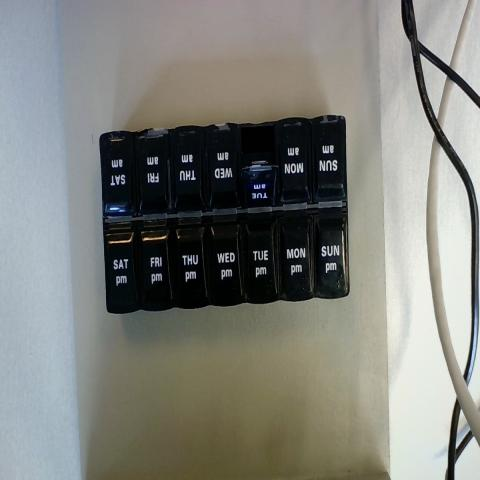FRI-am: (139, 130, 171, 208)
FRI-pm: (138, 234, 170, 307)
MON-am: (278, 120, 312, 204)
MON-pm: (278, 215, 311, 296)
Open: (241, 121, 277, 166)
PillBox: (82, 104, 364, 364)
SAT-am: (100, 131, 137, 214)
SAT-pm: (104, 231, 136, 311)
SUN-am: (314, 115, 346, 197)
SUN-pm: (314, 211, 346, 297)
THU-am: (171, 125, 206, 204)
THU-pm: (174, 227, 204, 304)
TUE-pm: (246, 218, 275, 300)
WED-am: (206, 124, 240, 204)
WED-pm: (209, 222, 241, 303)
